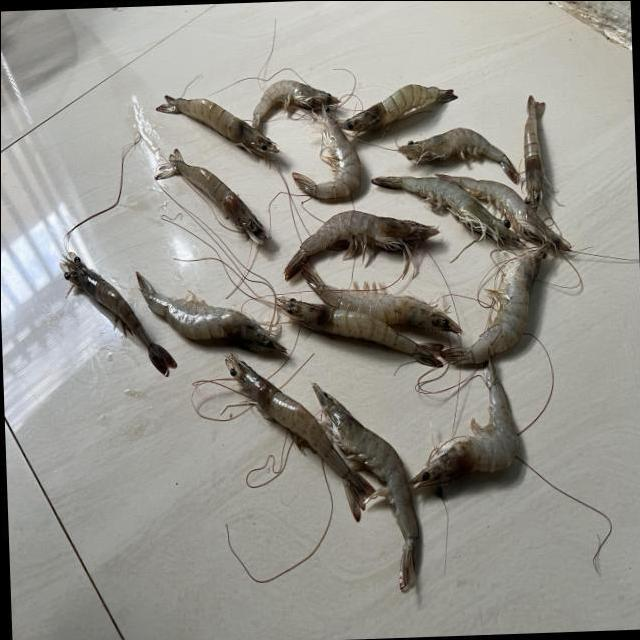shrimp: (224, 353, 373, 521), (311, 383, 417, 591), (57, 251, 175, 376), (409, 356, 517, 489), (134, 271, 285, 352), (441, 247, 545, 364), (275, 296, 442, 366), (300, 261, 461, 333), (153, 147, 269, 244), (283, 210, 438, 279), (434, 172, 570, 250), (371, 175, 520, 243), (154, 93, 278, 158), (397, 126, 520, 183), (291, 104, 360, 198), (338, 82, 457, 131), (251, 78, 337, 130), (523, 93, 545, 210)
